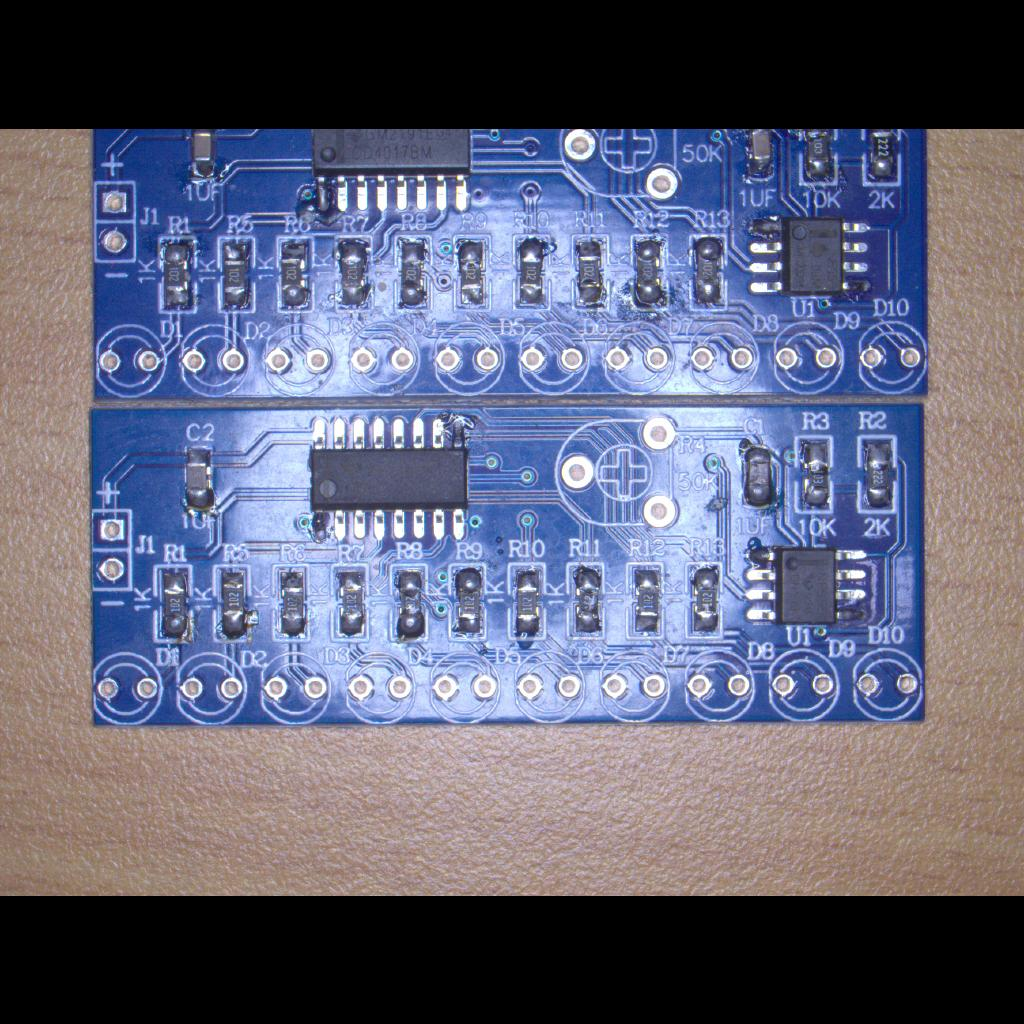OK: (299, 406, 477, 548), (299, 128, 485, 220), (736, 206, 888, 304), (740, 538, 874, 638), (504, 558, 550, 646), (386, 560, 432, 648), (444, 559, 490, 645), (853, 431, 899, 517), (326, 562, 374, 644), (156, 232, 202, 316), (628, 230, 674, 314), (624, 558, 668, 644), (564, 558, 608, 644), (151, 562, 195, 648), (273, 232, 317, 316), (510, 230, 554, 314), (569, 230, 613, 314), (682, 558, 726, 642), (210, 562, 254, 646), (792, 432, 836, 516), (270, 560, 312, 646), (332, 232, 376, 314), (450, 232, 494, 314), (686, 231, 730, 313), (216, 232, 258, 314), (392, 231, 434, 313), (177, 439, 219, 521), (738, 438, 778, 516), (794, 128, 844, 186), (858, 128, 906, 188), (737, 128, 779, 186), (182, 128, 220, 184)
